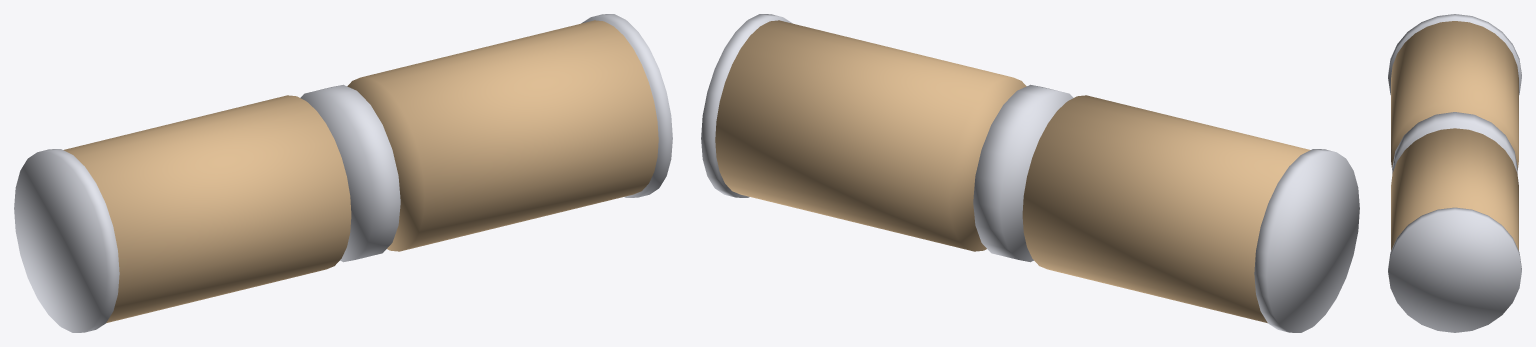
Rendered from reargrip_split.glb.
The picture shows the model from 3 angles, left to right: view 1: azimuth 30°, elevation 25°; view 2: azimuth 150°, elevation 25°; view 3: azimuth 270°, elevation 25°; orthographic projection. The views are drawn at different scales.
Visible parts, largest first — view 1: cork1, cork0, r0, sep, r1; view 2: cork1, cork0, r0, sep, r1; view 3: r1, cork0, cork1, sep, r0.
Part boxes in pixels (left/top/right/bottom): cork1: left=347, top=20, right=658, bottom=251; cork0: left=63, top=95, right=351, bottom=323; r0: left=14, top=149, right=119, bottom=332; sep: left=300, top=84, right=400, bottom=262; r1: left=581, top=14, right=672, bottom=197; cork1: left=715, top=20, right=1026, bottom=251; cork0: left=1022, top=95, right=1310, bottom=323; r0: left=1254, top=149, right=1359, bottom=332; sep: left=973, top=84, right=1073, bottom=262; r1: left=701, top=14, right=792, bottom=197; r1: left=1388, top=207, right=1521, bottom=332; cork0: left=1391, top=21, right=1518, bottom=169; cork1: left=1391, top=128, right=1518, bottom=250; sep: left=1392, top=112, right=1517, bottom=173; r0: left=1388, top=14, right=1521, bottom=94.
Size of the model in its own units: 1.15 by 0.33 by 0.33.
